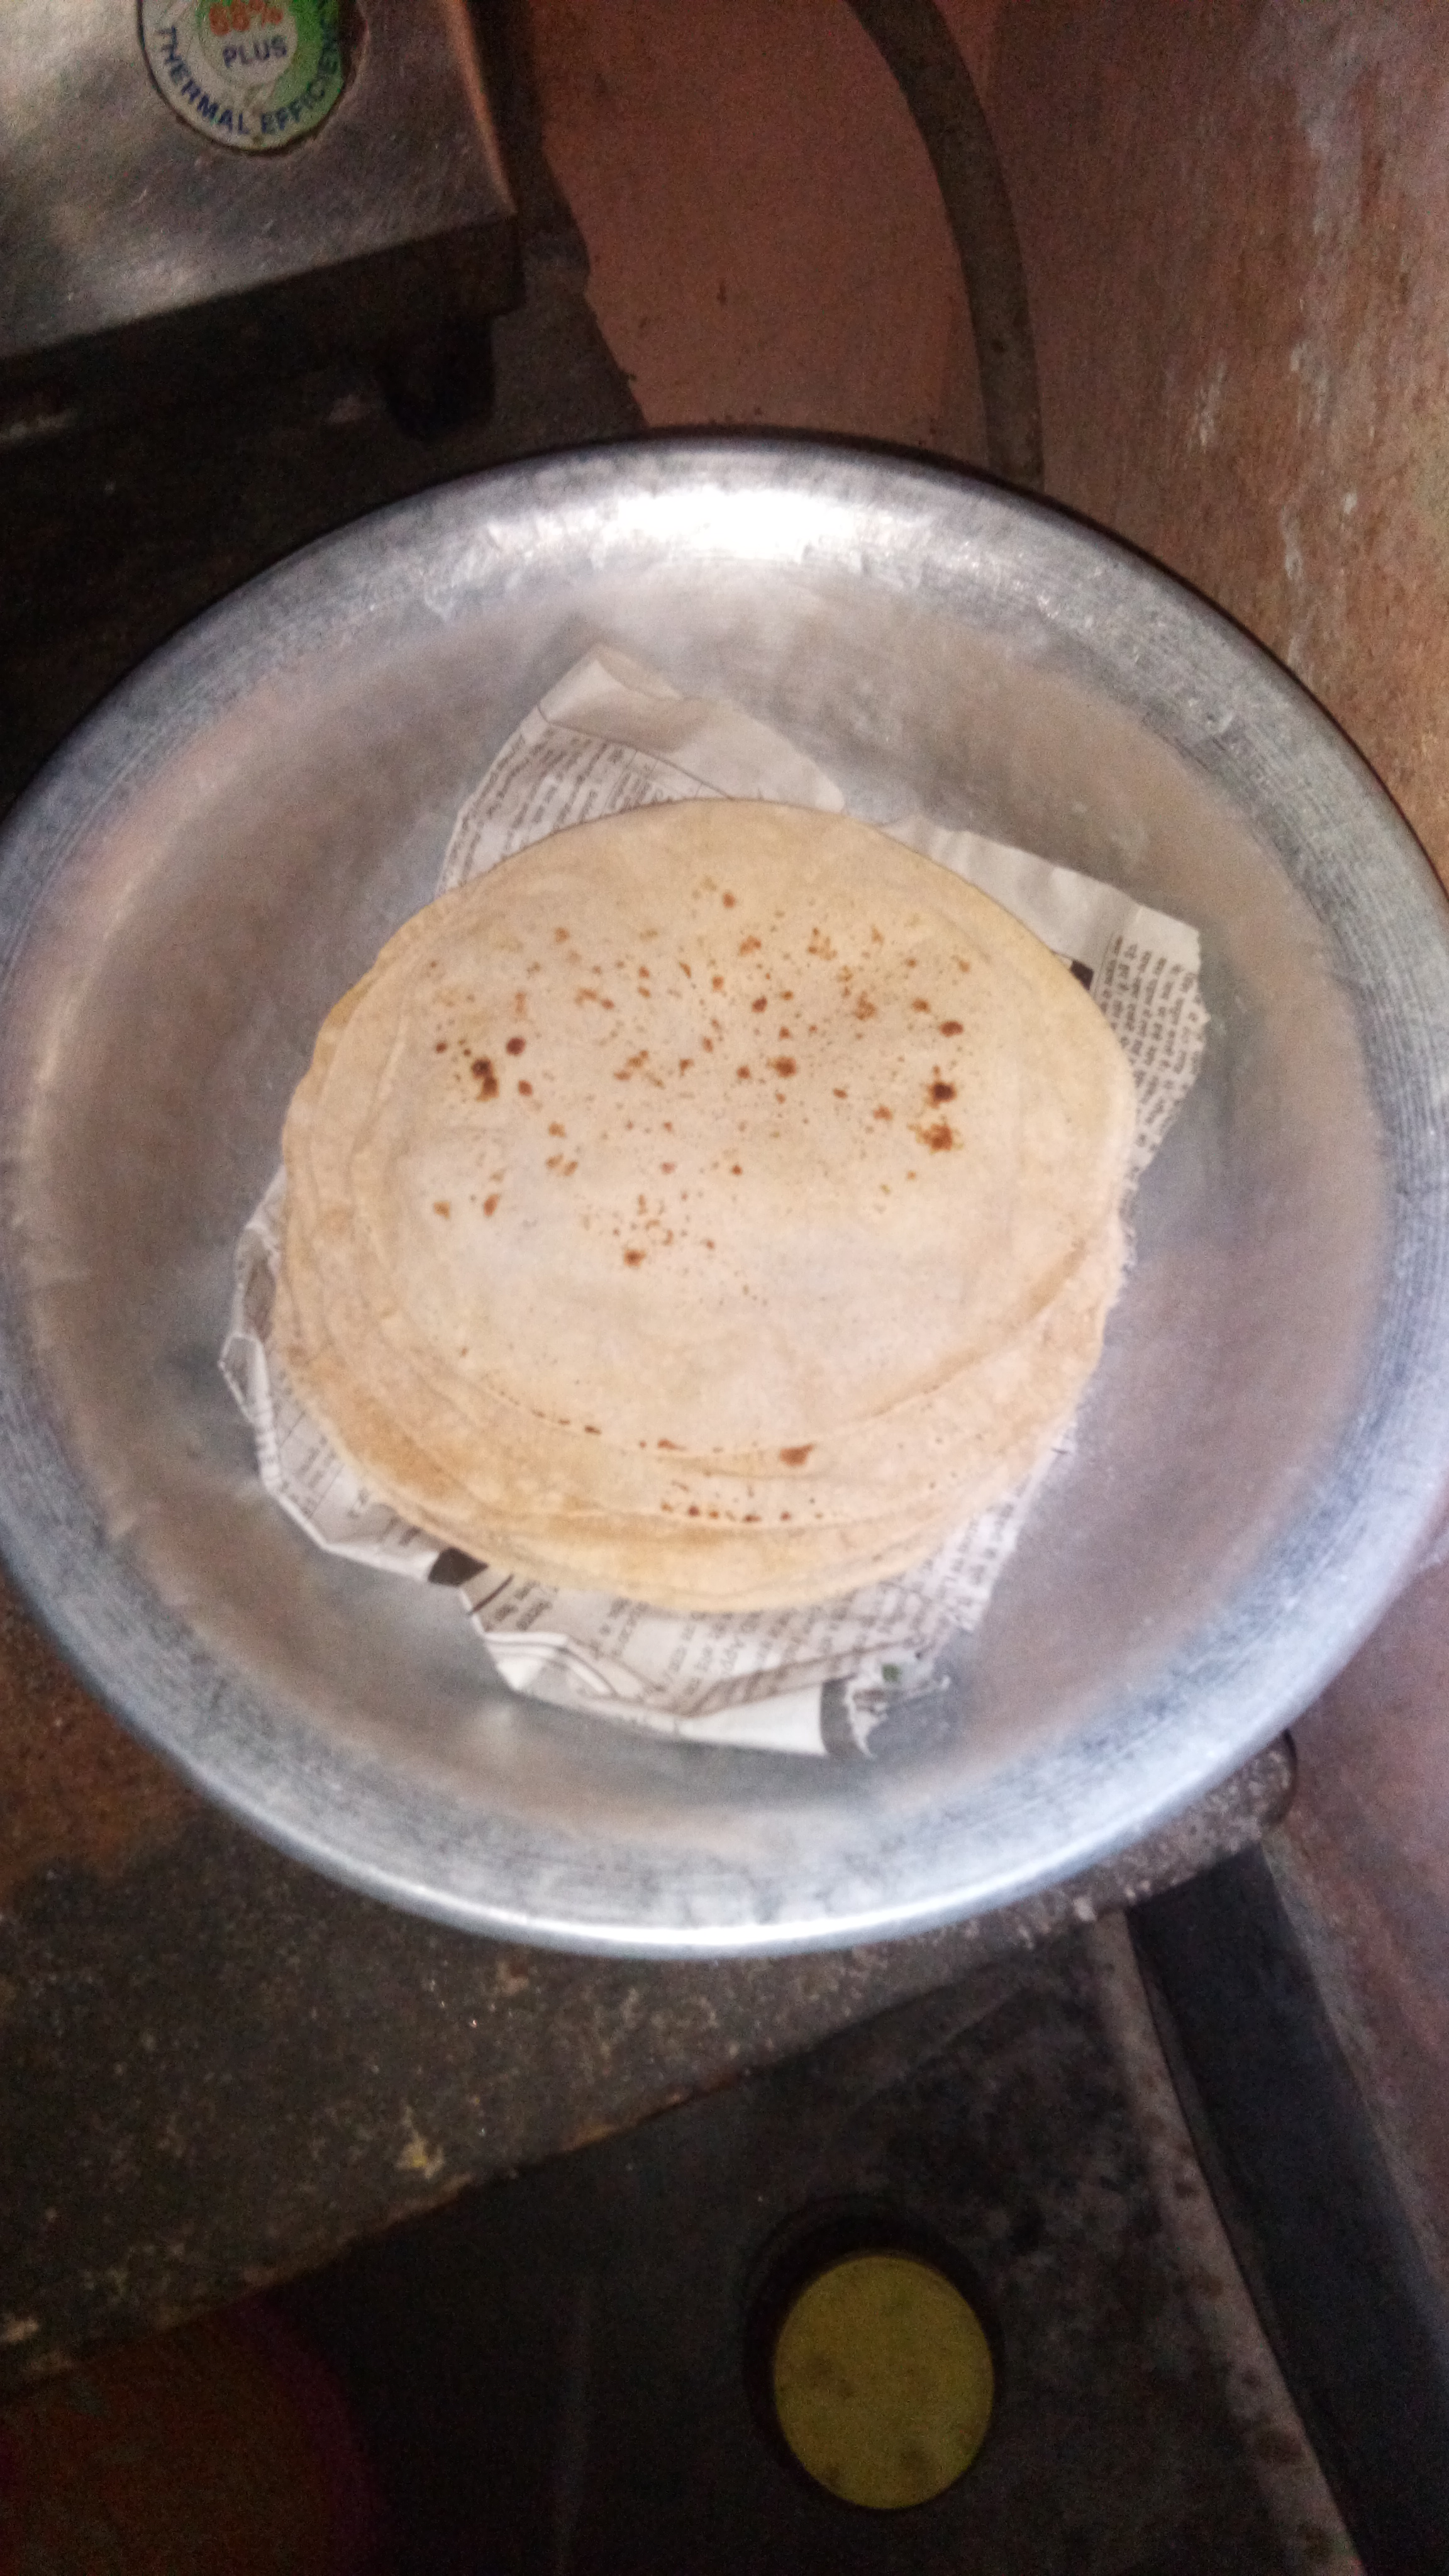food: (253, 775, 1148, 1629)
